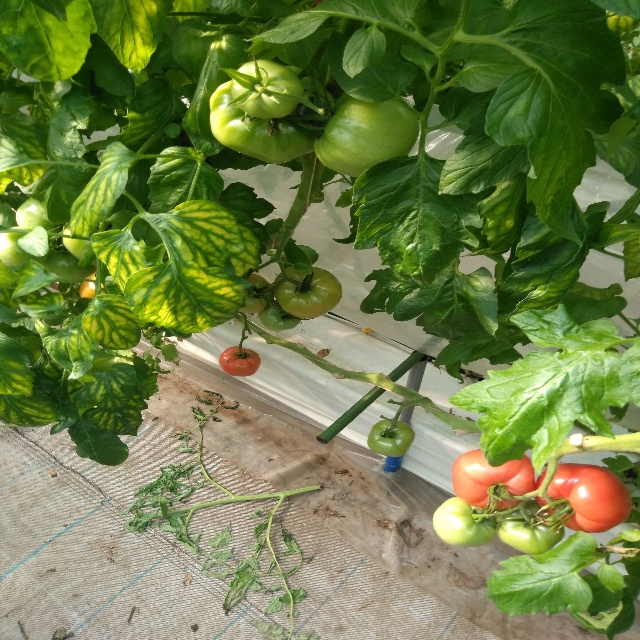b_fully_ripened: (534, 463, 632, 533), (218, 346, 262, 377)
b_green: (210, 59, 334, 164), (314, 86, 420, 177), (230, 59, 303, 120), (495, 499, 564, 555), (273, 266, 342, 319), (432, 495, 496, 546), (41, 243, 97, 283), (0, 226, 48, 268), (16, 197, 66, 236), (367, 420, 415, 458), (61, 223, 98, 264), (236, 273, 273, 314), (258, 299, 303, 332)
b_half_ripened: (452, 449, 535, 511)
